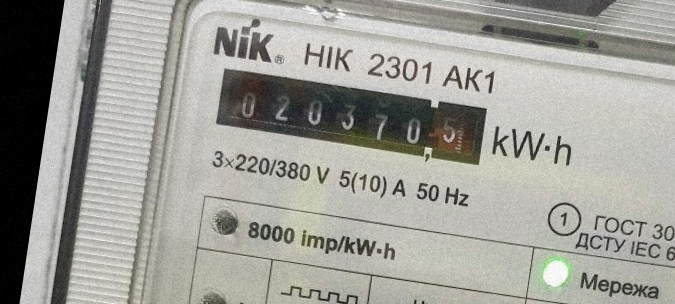0: (402, 115, 424, 147), (238, 88, 259, 119), (305, 96, 324, 126)
2: (271, 91, 294, 125)
3: (338, 100, 358, 132)
5: (439, 113, 461, 146)
7: (369, 111, 389, 143)
screen: (207, 60, 497, 176)
